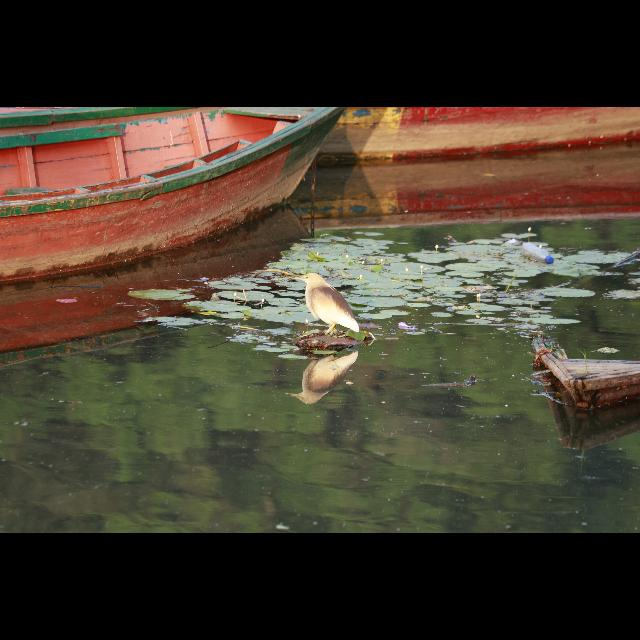heron: (288, 270, 364, 340)
